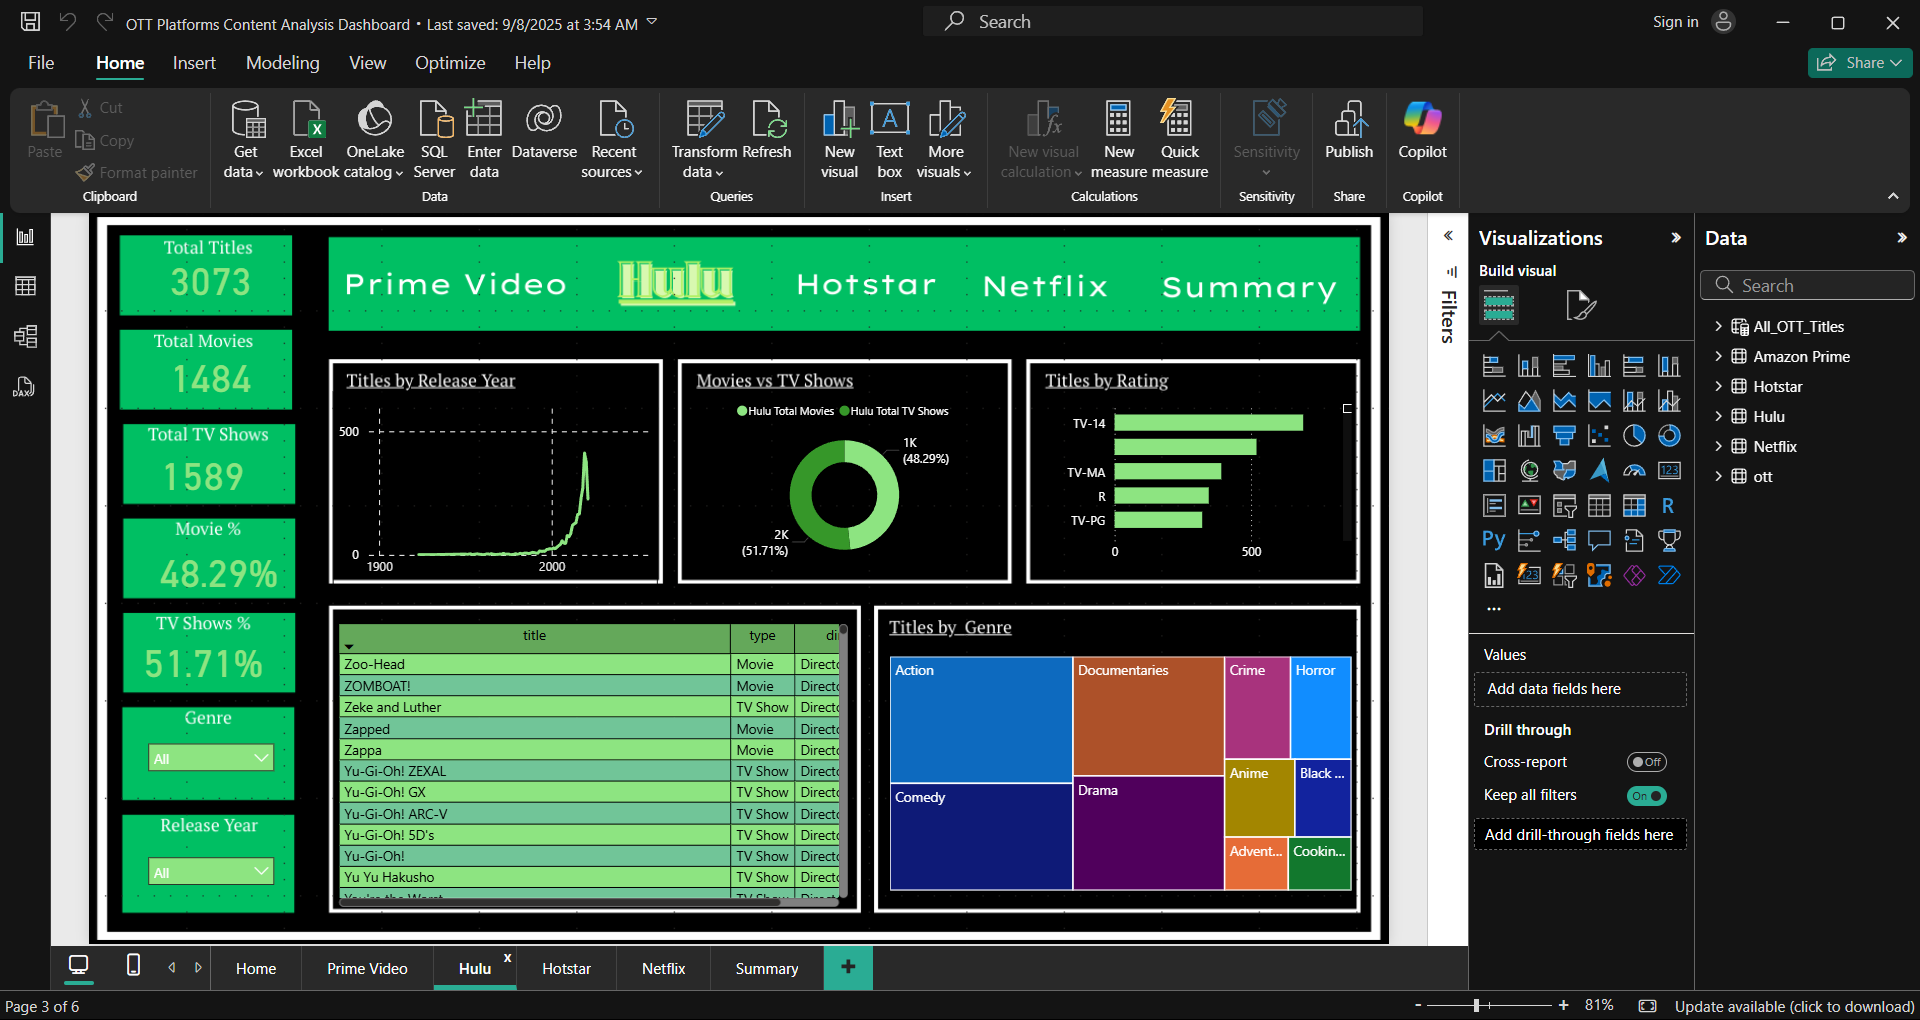

This screenshot's page, from the dashboard's own definition file:
{"tool":"powerbi","page":{"name":"Hulu","canvas":[1280,720],"ordinal":2},"visuals":[{"type":"card","fields":{"Values":["Hulu.Hulu Total Titles"]},"box":[48,16,144,96],"z":0},{"type":"card","fields":{"Values":["Hulu.Hulu Total Movies"]},"box":[48,112,144,96],"z":1000},{"type":"card","fields":{"Values":["Hulu.Hulu Total TV Shows"]},"box":[32,208,160,96],"z":2000},{"type":"card","fields":{"Values":["Hulu.Hulu % Movies"]},"box":[32,304,192,96],"z":3000},{"type":"card","fields":{"Values":["Hulu.Hulu % TV Shows"]},"box":[32,384,160,112],"z":4000},{"type":"slicer","fields":{"Values":["Hulu.First Category"]},"box":[48,512,144,64],"z":6000},{"type":"slicer","fields":{"Values":["Hulu.release_year"]},"box":[48,624,144,64],"z":7000},{"type":"lineChart","fields":{"Y":["Hulu.Hulu Titles by Year"],"Category":["Hulu.release_year"]},"box":[240,176,320,192],"z":8000},{"type":"donutChart","fields":{"Y":["Hulu.Hulu Total Movies","Hulu.Hulu Total TV Shows"]},"box":[592,176,304,176],"z":9000},{"type":"barChart","fields":{"Y":["Hulu.Hulu Titles by Rating"],"Category":["Hulu.rating"]},"box":[928,176,320,176],"z":10000},{"type":"treemap","fields":{"Values":["Hulu.Hulu Titles by Genre"],"Group":["Hulu.First Category"]},"box":[784,432,464,240],"z":11000},{"type":"tableEx","fields":{"Values":["Hulu.title","Hulu.type","Hulu.director"]},"box":[240,400,512,288],"z":12000},{"type":"actionButton","box":[240,48,240,48],"z":12001},{"type":"actionButton","box":[688,48,160,48],"z":12002},{"type":"actionButton","box":[864,48,144,48],"z":12003},{"type":"actionButton","box":[1040,48,192,48],"z":12004}]}

Visuals, with their boxes on the page's 1280x720 design canvas (x1, y1, x2, y2). These are canvas units, not pixel positions in the 1920x1020 screenshot, which may show the page scaled, cropped or inside an application window:
card - Hulu.Hulu Total Titles: left=48, top=16, right=192, bottom=112
card - Hulu.Hulu Total Movies: left=48, top=112, right=192, bottom=208
card - Hulu.Hulu Total TV Shows: left=32, top=208, right=192, bottom=304
card - Hulu.Hulu % Movies: left=32, top=304, right=224, bottom=400
card - Hulu.Hulu % TV Shows: left=32, top=384, right=192, bottom=496
slicer - Hulu.First Category: left=48, top=512, right=192, bottom=576
slicer - Hulu.release_year: left=48, top=624, right=192, bottom=688
lineChart - Hulu.Hulu Titles by Year x Hulu.release_year: left=240, top=176, right=560, bottom=368
donutChart - Hulu.Hulu Total Movies x Hulu.Hulu Total TV Shows: left=592, top=176, right=896, bottom=352
barChart - Hulu.Hulu Titles by Rating x Hulu.rating: left=928, top=176, right=1248, bottom=352
treemap - Hulu.Hulu Titles by Genre x Hulu.First Category: left=784, top=432, right=1248, bottom=672
tableEx - Hulu.title x Hulu.type: left=240, top=400, right=752, bottom=688
actionButton: left=240, top=48, right=480, bottom=96
actionButton: left=688, top=48, right=848, bottom=96
actionButton: left=864, top=48, right=1008, bottom=96
actionButton: left=1040, top=48, right=1232, bottom=96
